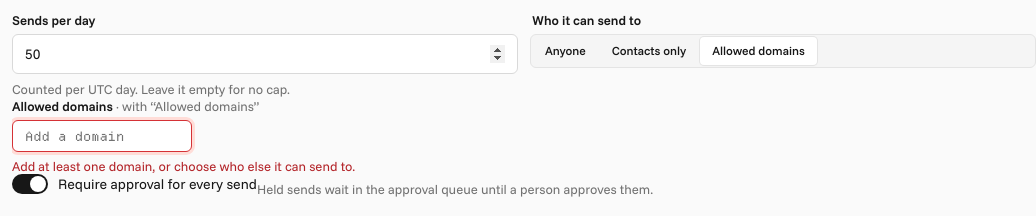
allowed domains › adds chips on Enter, flags bad ones, and removes with Backspace
Type "Gmail.com, nope" into the field with placeholder "Add a domain".
click(102, 136); type("Gmail.com, nope")  # box left=12, top=120, right=192, bottom=152
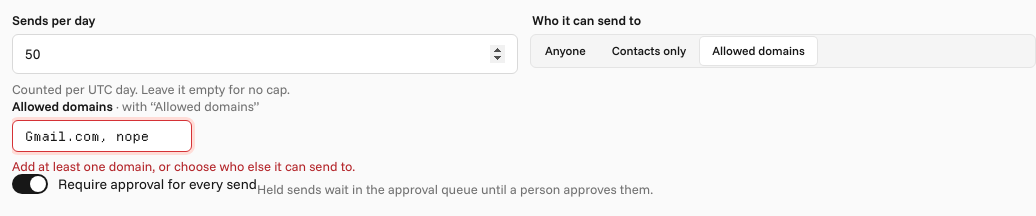
Press Enter in the field with placeholder "Add a domain", box left=12, top=120, right=192, bottom=152
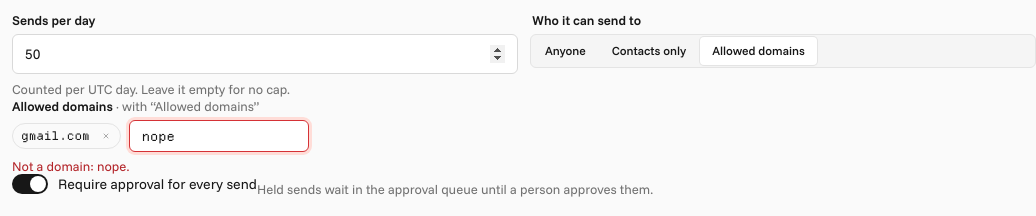
Result: the text "Not a domain: nope." is shown at left=12, top=158, right=129, bottom=174
Clear the field with placeholder "Add a domain" at (219, 136), box left=129, top=120, right=309, bottom=152
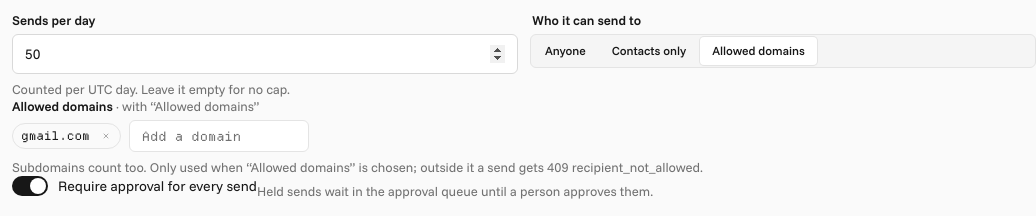
Press Backspace in the field with placeholder "Add a domain", box left=129, top=120, right=309, bottom=152
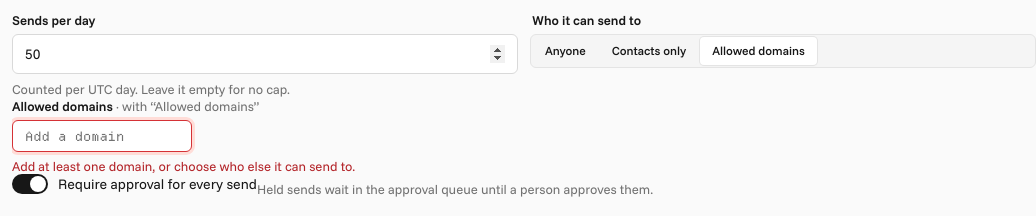
Result: the text "Add at least one domain, or choose who else it can send to." is shown at left=12, top=158, right=355, bottom=174
